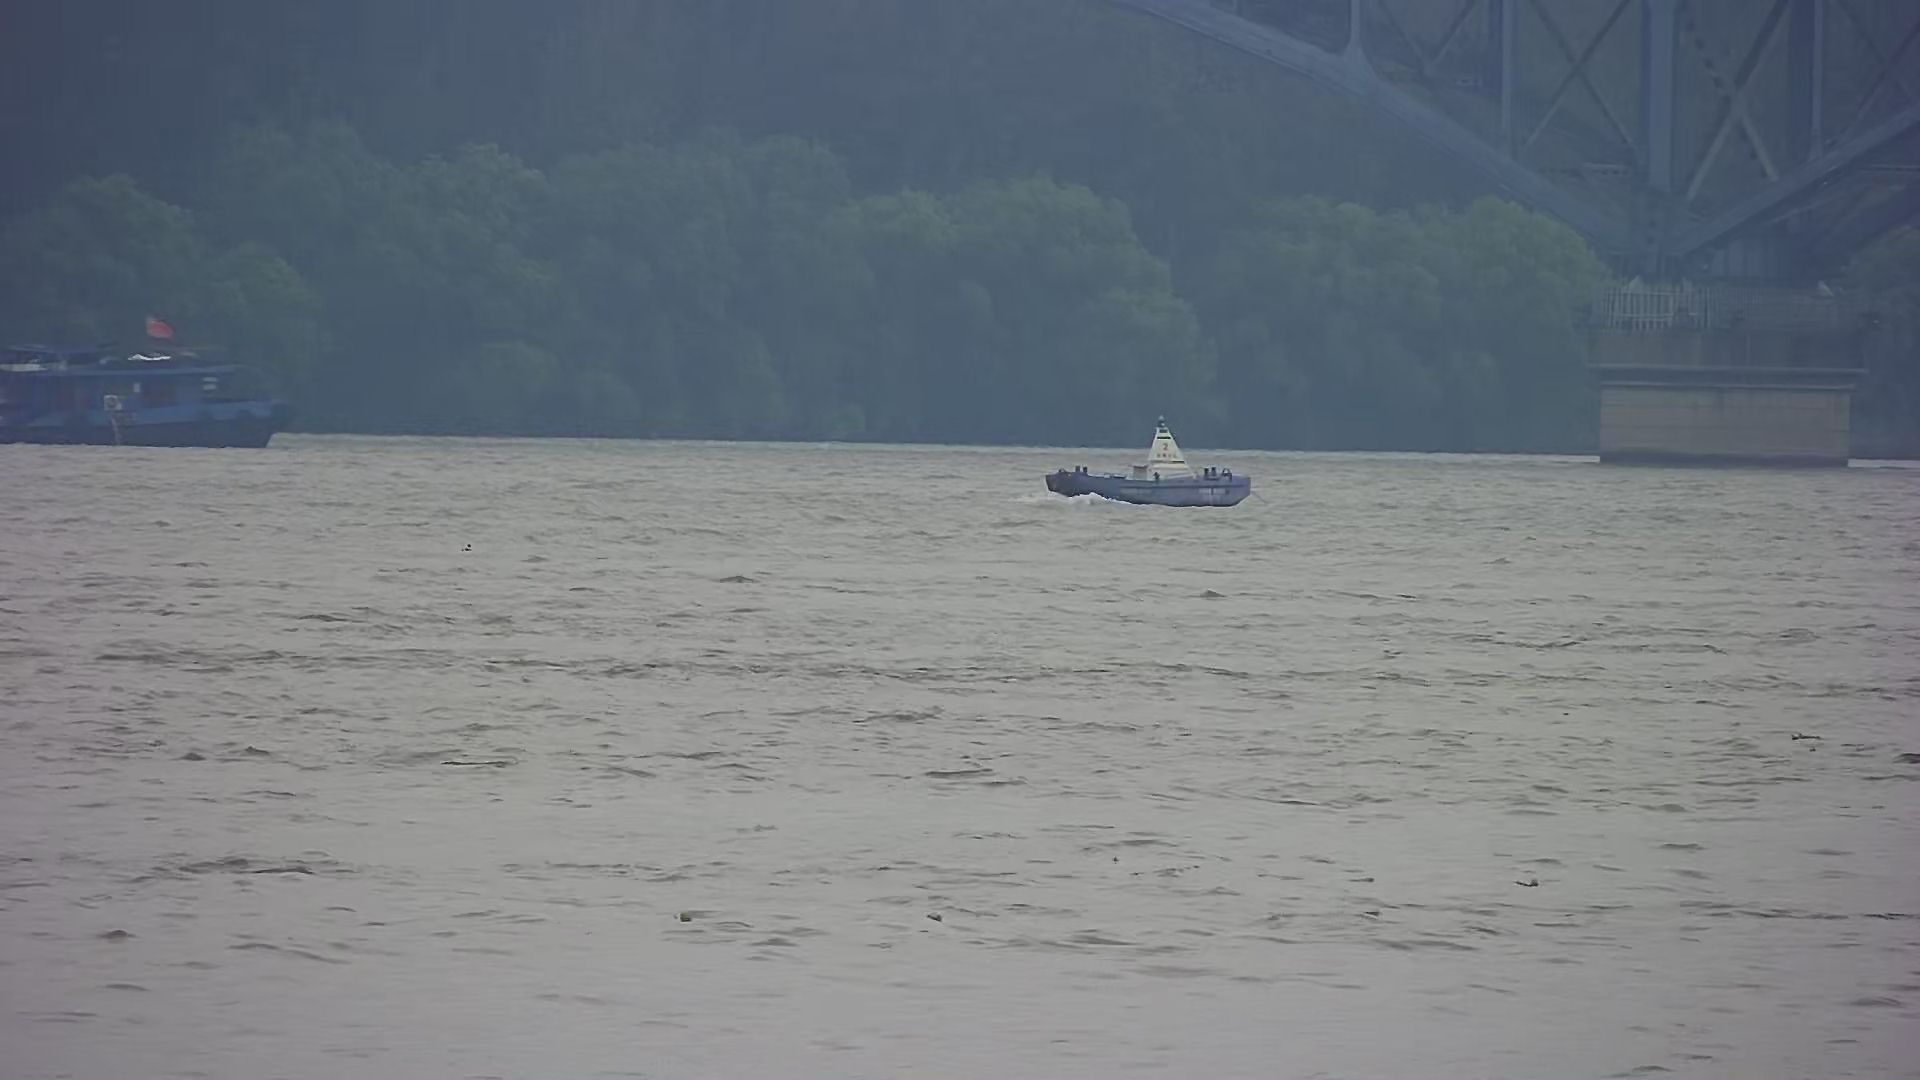boat: (1034, 400, 1280, 517)
bridge: (1108, 1, 1902, 476)
ship: (1, 316, 287, 456)
